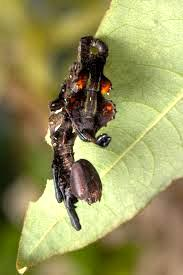Lobster Moth: (42, 40, 129, 228)
